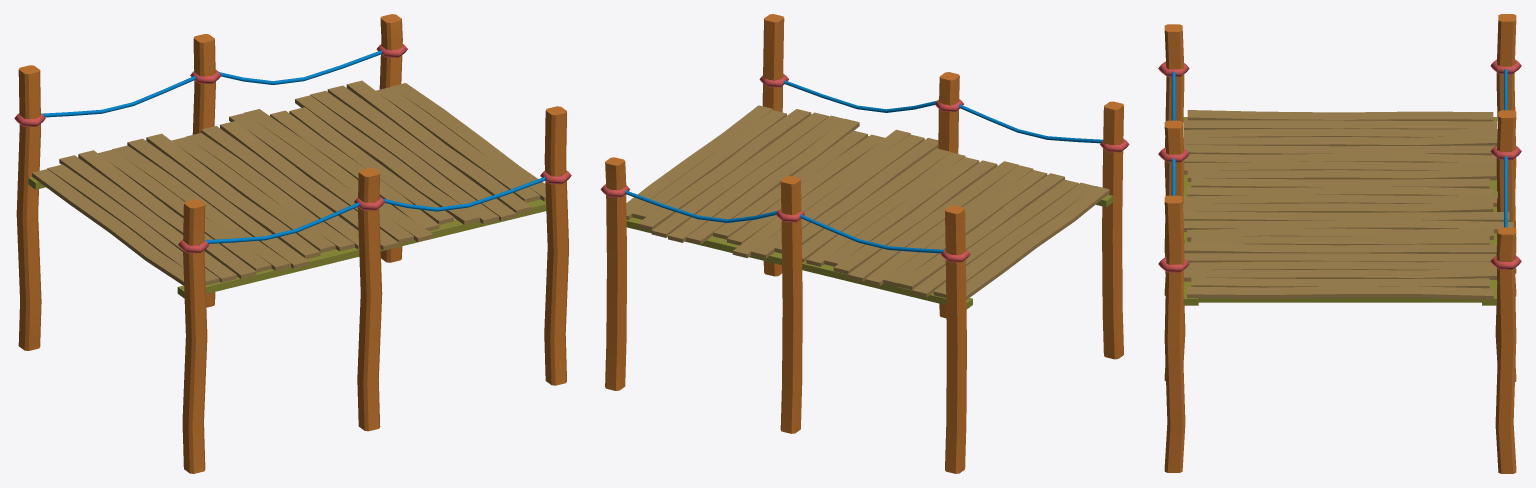
The model's file is Ponton low.fbx.
3 views of the same model, side by side, from view 1: azimuth 30°, elevation 25°; view 2: azimuth 150°, elevation 25°; view 3: azimuth 270°, elevation 25° (orthographic). The views are drawn at different scales.
Parts seen in each view (by area): view 1: Box001, Object, Cylinder003, Box021, Torus004; view 2: Box001, Object, Cylinder003, Box021, Torus004; view 3: Box001, Object, Box021, Torus004, Cylinder003.
Part boxes in pixels (box(x1,y1,x2,y2)): Box001: box(32, 80, 545, 285); Object: box(16, 14, 568, 473); Cylinder003: box(42, 50, 545, 243); Box021: box(28, 176, 546, 298); Torus004: box(14, 44, 571, 253); Box001: box(626, 105, 1109, 299); Object: box(605, 14, 1123, 473); Cylinder003: box(625, 80, 1102, 253); Box021: box(626, 136, 1113, 308); Torus004: box(600, 74, 1129, 262); Box001: box(1183, 110, 1516, 299); Object: box(1164, 14, 1516, 473); Box021: box(1183, 117, 1496, 305); Torus004: box(1158, 59, 1521, 272); Cylinder003: box(1171, 69, 1507, 227).
Size of the model in its own units: 300 by 204 by 244.
